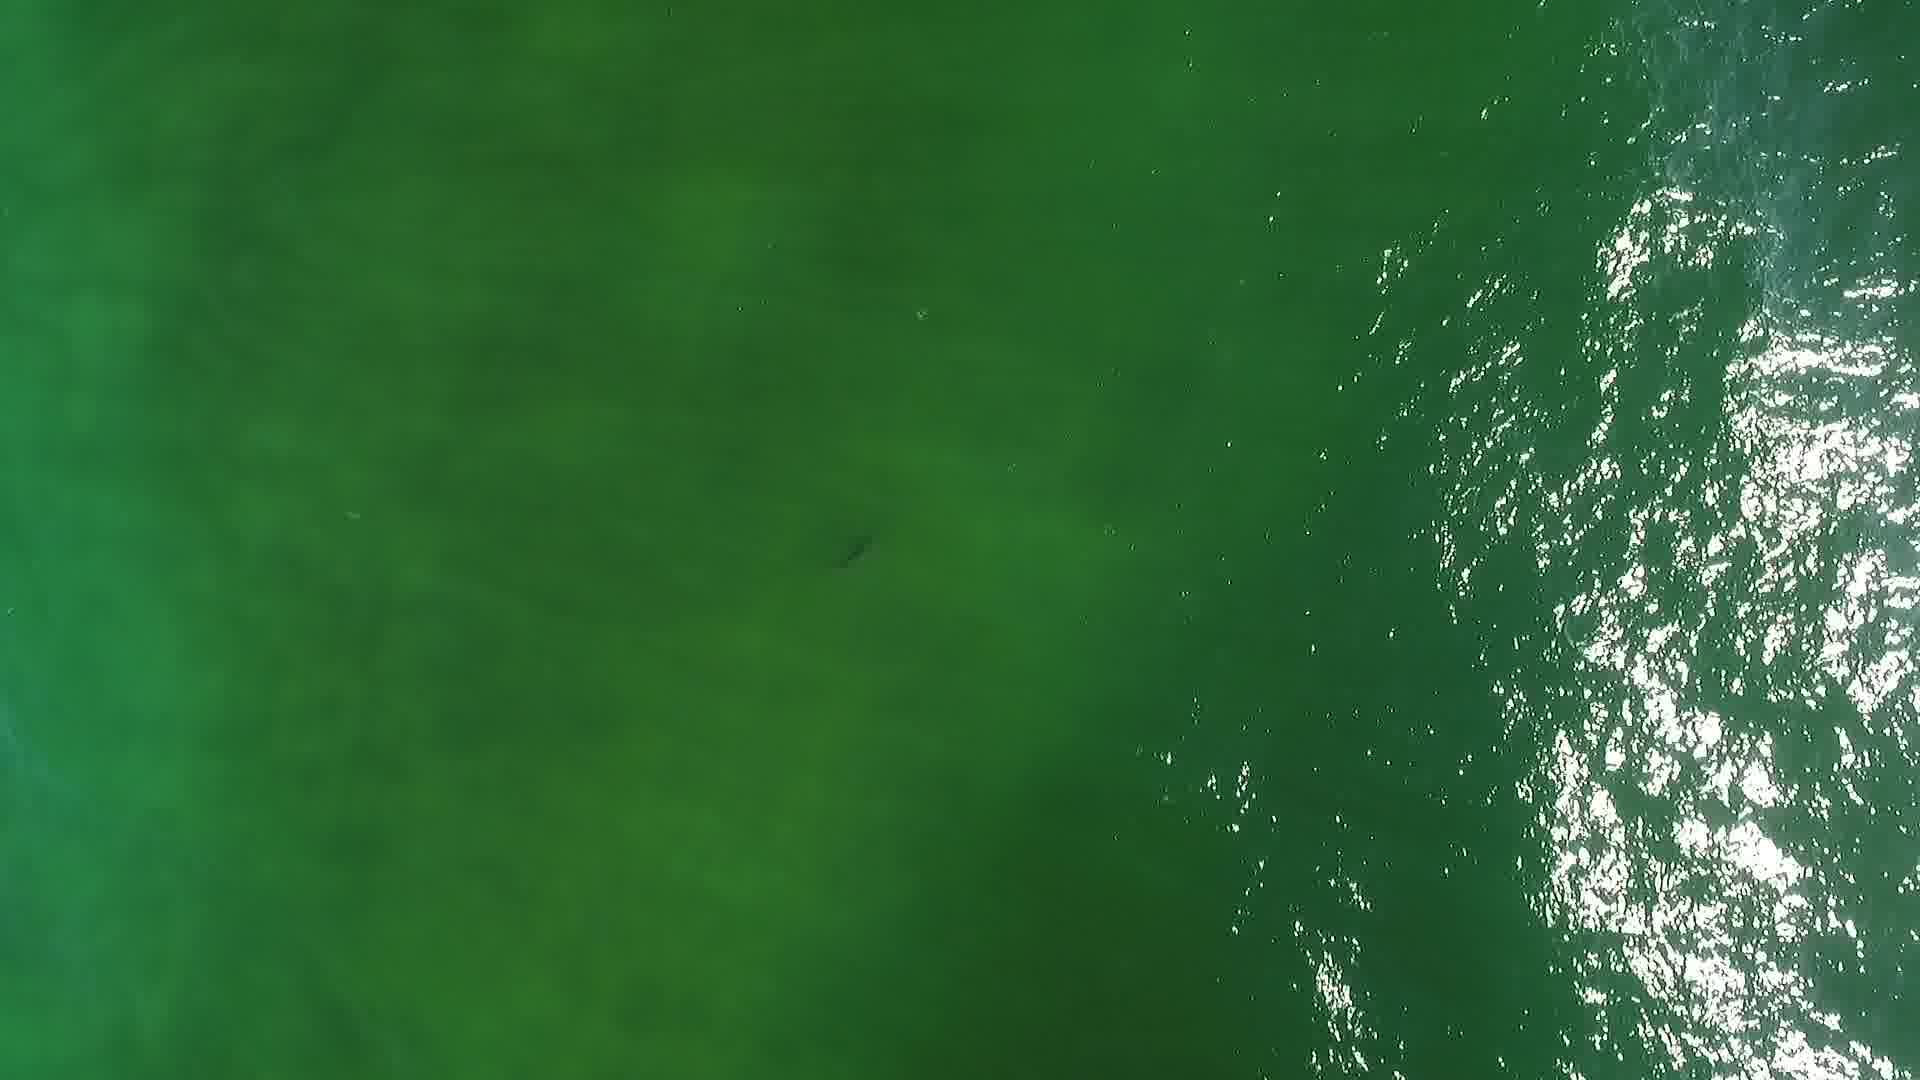shark: (831, 535, 878, 576)
